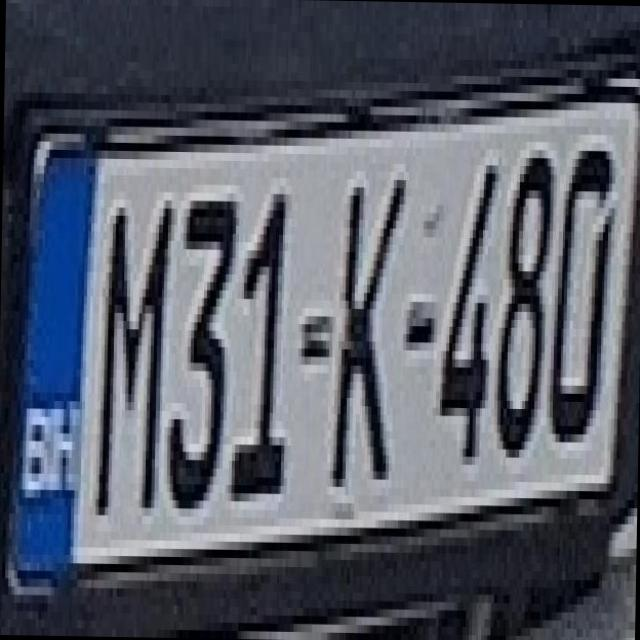0: (536, 118, 622, 442)
1: (218, 161, 304, 494)
3: (154, 176, 245, 509)
4: (425, 132, 508, 456)
8: (478, 124, 564, 450)
K: (314, 146, 412, 488)
M: (79, 174, 178, 516)
